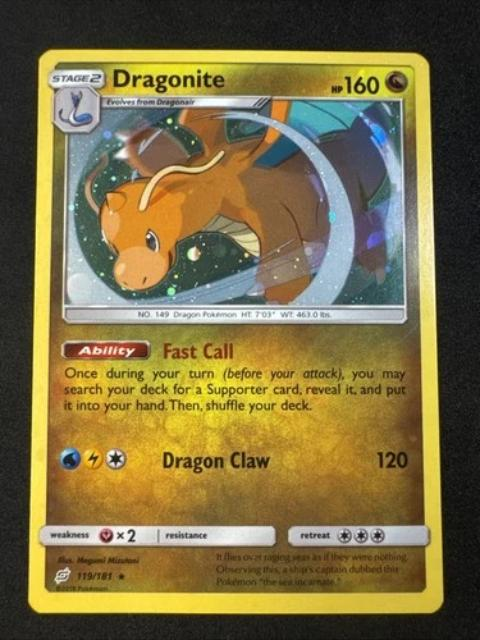Card: (23, 44, 447, 618)
Name: (108, 61, 228, 95)
